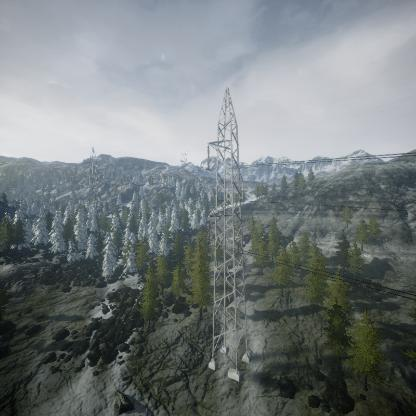tower: (205, 84, 254, 387)
